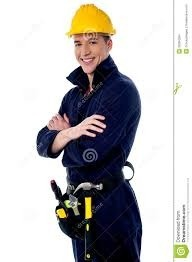helmet: (61, 1, 121, 38)
person with partial safety: (50, 2, 152, 258)
